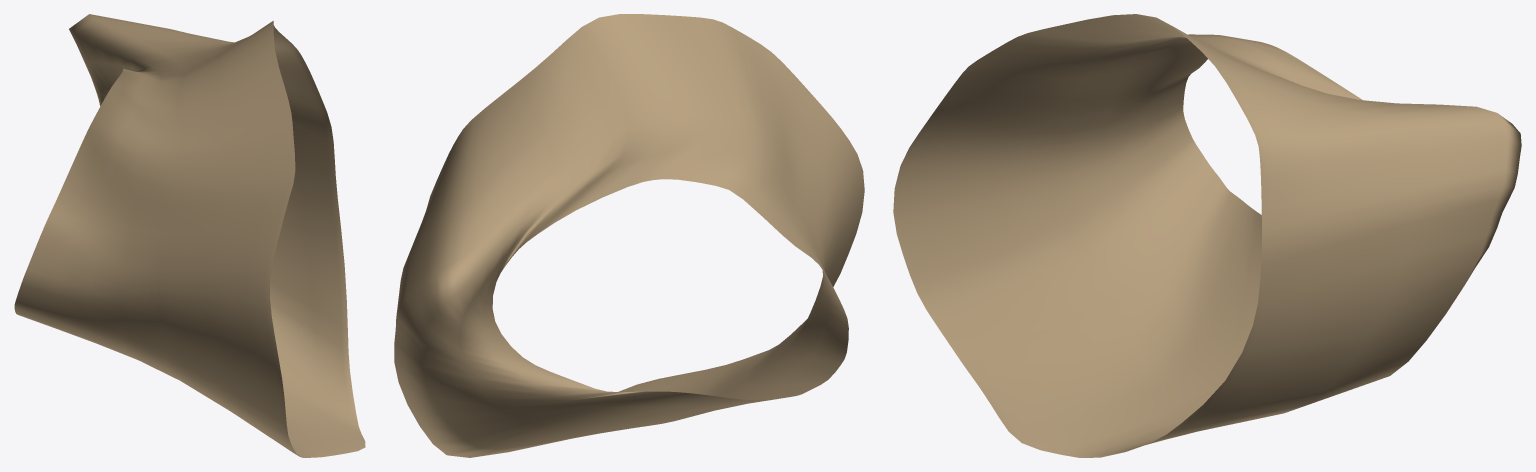
3 views of the same model, side by side, from view 1: azimuth 30°, elevation 25°; view 2: azimuth 150°, elevation 25°; view 3: azimuth 270°, elevation 25° (orthographic). The views are drawn at different scales.
Parts seen in each view (by area): view 1: 右侧髋关节囊; view 2: 右侧髋关节囊; view 3: 右侧髋关节囊.
Boxes of the visible parts, x1,y1,x2,y2 form: 右侧髋关节囊: (14,14,365,457); 右侧髋关节囊: (394,14,864,457); 右侧髋关节囊: (893,14,1521,457).
Bounding box in the file's own units: 0.0797 × 0.0844 × 0.1159.
